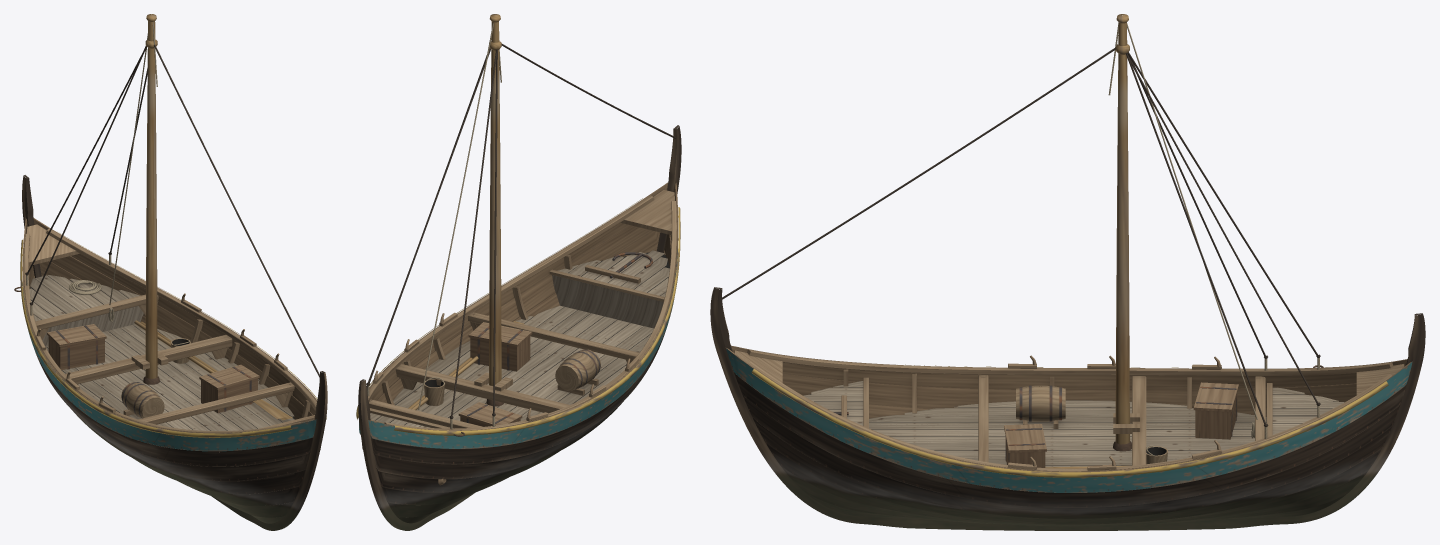
The model's file is DriftBoat.gltf.
3 renders of one model, left to right at view 1: azimuth 30°, elevation 25°; view 2: azimuth 150°, elevation 25°; view 3: azimuth 270°, elevation 25°, orthographic. The views are drawn at different scales.
Visible parts, largest first — view 1: DriftBoat; view 2: DriftBoat; view 3: DriftBoat.
Part boxes in pixels (x1,y1,x2,y2): DriftBoat: [14, 14, 327, 530]; DriftBoat: [356, 14, 681, 530]; DriftBoat: [710, 14, 1425, 530].
Bounding box in the file's own units: 2.65 × 5.95 × 7.49.
Materials: 1 (1 with a texture image).
